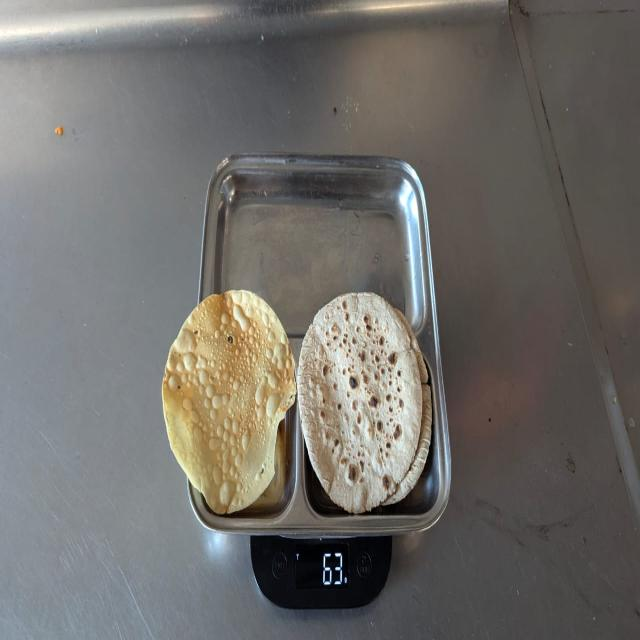Chapati: (300, 289, 430, 515)
Papad: (161, 290, 298, 516)
